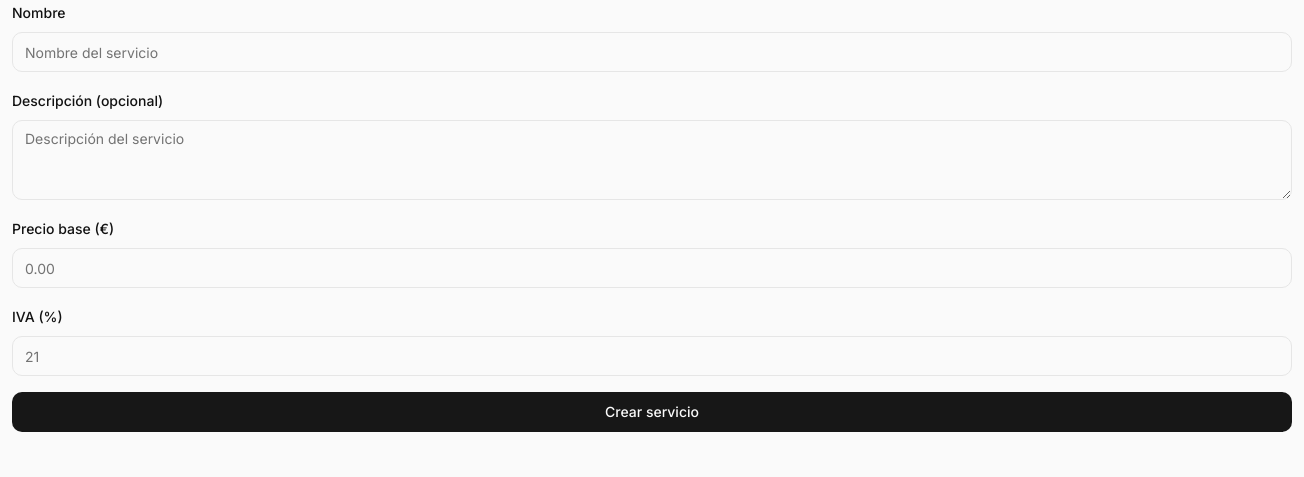
Test: ServiceForm › shows validation error when submitting with empty name
Type "100" into the number field labelled "Precio base (€)" at (652, 268), box x1=12 y1=248 x2=1292 y2=288
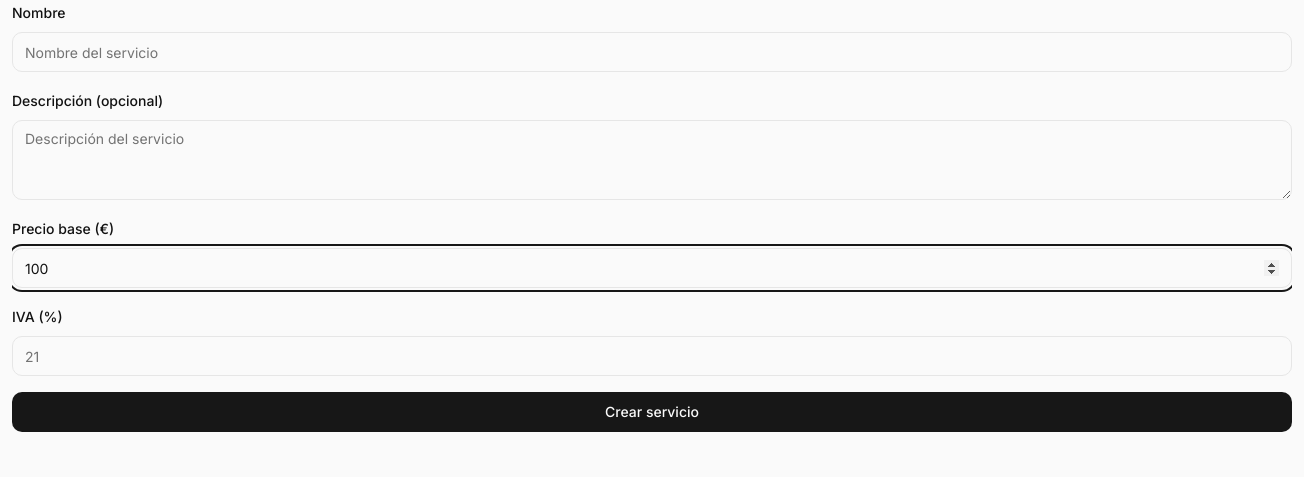
Click the button "Crear servicio" at (652, 412), box x1=12 y1=392 x2=1292 y2=432
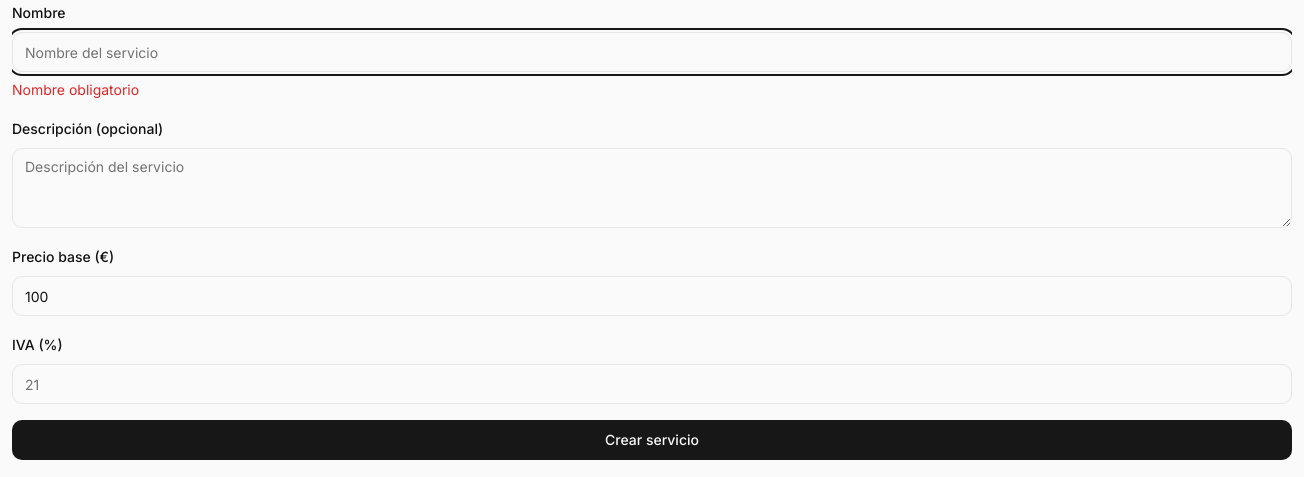
expect the text "Nombre obligatorio" is shown: met, box x1=12 y1=81 x2=139 y2=98
